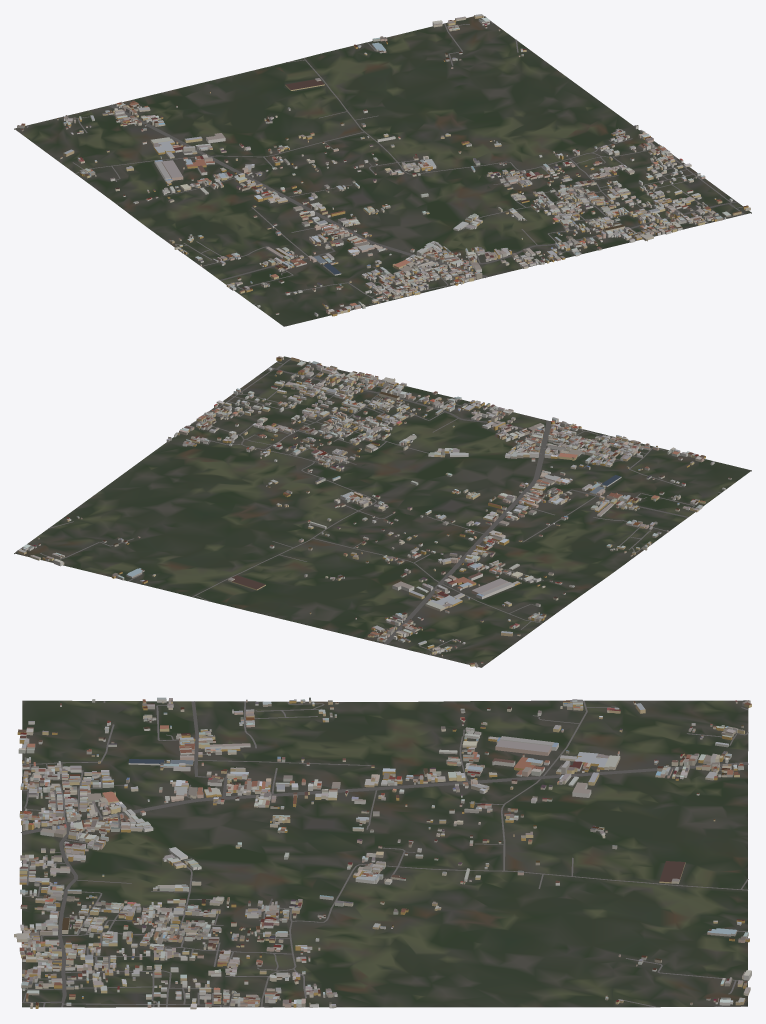
3 views of the same model, one above another, from view 1: azimuth 30°, elevation 25°; view 2: azimuth 150°, elevation 25°; view 3: azimuth 270°, elevation 25° (orthographic). The views are drawn at different scales.
Parts seen in each view (by area): view 1: ground, buildings, roads; view 2: ground, buildings, roads; view 3: ground, buildings, roads.
Part boxes in pixels (left/top/right/bottom): ground: left=14, top=14, right=751, bottom=326; buildings: left=17, top=14, right=750, bottom=316; roads: left=27, top=16, right=744, bottom=309; ground: left=14, top=356, right=751, bottom=667; buildings: left=18, top=356, right=731, bottom=667; roads: left=16, top=358, right=721, bottom=664; ground: left=22, top=700, right=748, bottom=1007; buildings: left=14, top=697, right=751, bottom=1009; roads: left=21, top=700, right=748, bottom=1007.
Size of the model in its own units: 1414 by 20.25 by 1424.
